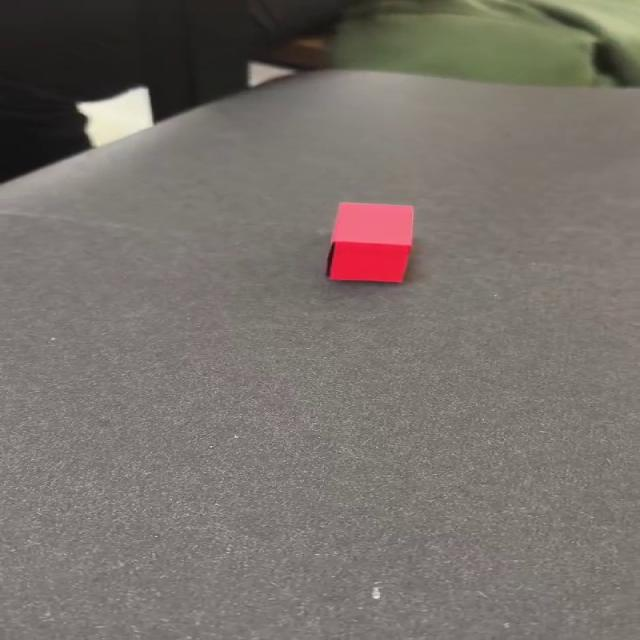red block: (325, 201, 415, 283)
